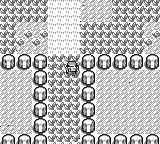captura: (80, 0, 159, 54), (47, 54, 80, 143), (0, 0, 48, 54)
main: (66, 61, 78, 76)
no-caminable: (81, 54, 159, 143), (0, 54, 46, 143)
